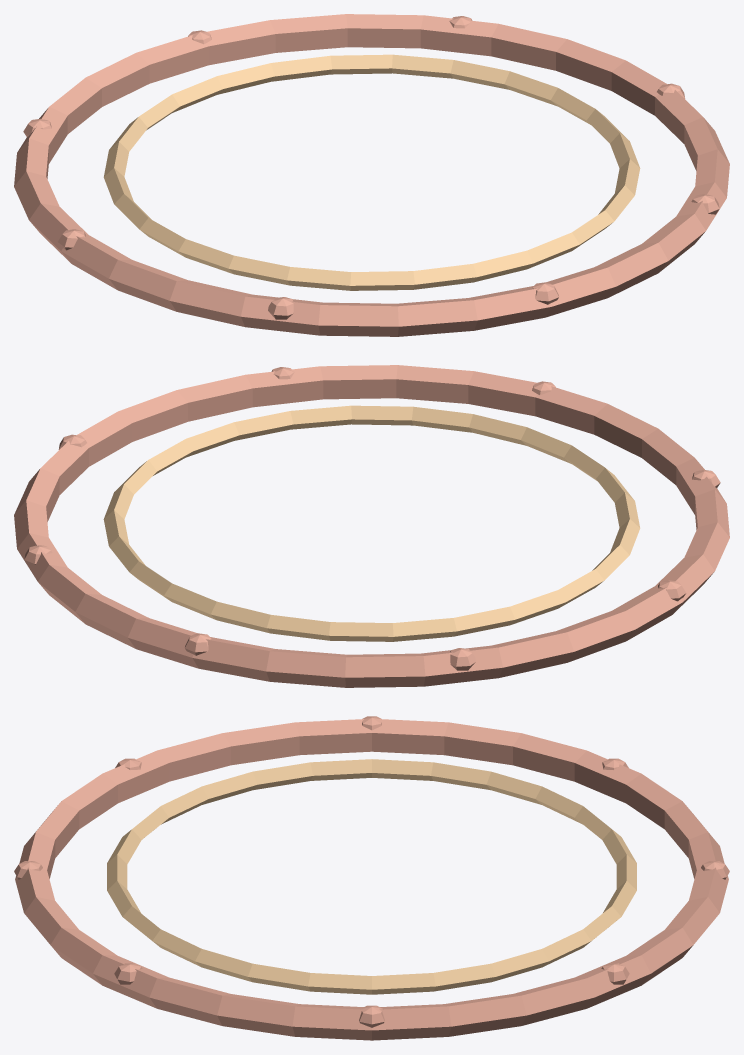
File: aviso_columna.glb
The picture shows the model from 3 angles, top to bottom: view 1: azimuth 30°, elevation 25°; view 2: azimuth 150°, elevation 25°; view 3: azimuth 270°, elevation 25°; orthographic projection.
Parts seen in each view (by area): view 1: aviso_columna; view 2: aviso_columna; view 3: aviso_columna.
Part boxes in pixels (x1,y1,x2,y2): aviso_columna: [14, 14, 729, 336]; aviso_columna: [14, 365, 729, 687]; aviso_columna: [14, 716, 729, 1040].
Bounding box in the file's own units: 2.43 × 0.1221 × 2.43.
